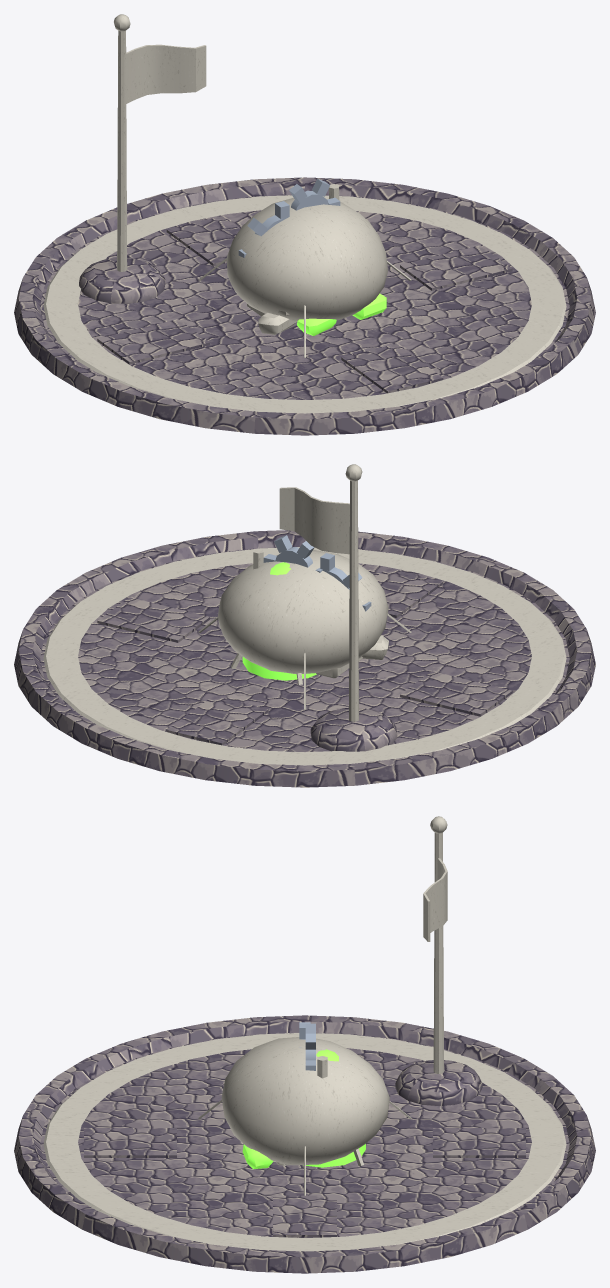
File: resource_point_secondary.glb
3 renders of one model, top to bottom at view 1: azimuth 30°, elevation 25°; view 2: azimuth 150°, elevation 25°; view 3: azimuth 270°, elevation 25°, orthographic.
Visible parts, largest first — view 1: Base, State_Neutral, Flag, Pole, State_Zombies, State_Plants; view 2: Base, State_Neutral, Flag, Pole, State_Zombies, State_Plants; view 3: Base, State_Neutral, Pole, Flag, State_Plants, State_Zombies.
Boxes of the visible parts, x1,y1,x2,y2 form: Base: (14,177,595,435); State_Neutral: (43,195,566,413); Flag: (126,44,206,103); Pole: (114,14,130,271); State_Zombies: (238,179,340,316); State_Plants: (258,293,386,335); Base: (14,530,595,787); State_Neutral: (43,547,566,765); Flag: (279,487,349,554); Pole: (345,464,362,721); State_Zombies: (253,535,371,678); State_Plants: (230,562,388,684); Base: (14,1015,595,1273); State_Neutral: (43,1033,566,1251); Pole: (430,816,447,1073); Flag: (423,858,447,941); State_Plants: (242,1049,365,1169); State_Zombies: (276,1022,327,1165).
Size of the model in its own units: 10 by 5.25 by 10.
4 materials, 2 textured.
